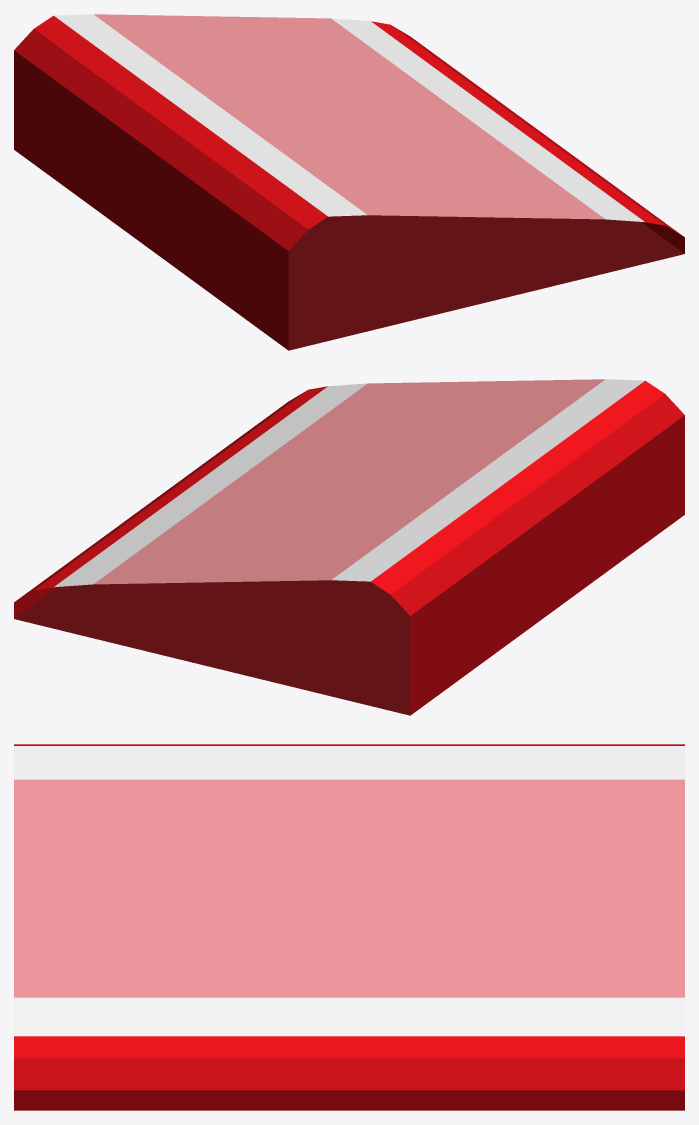
The model's file is Bank1.fbx.
The picture shows the model from 3 angles, top to bottom: view 1: azimuth 30°, elevation 25°; view 2: azimuth 150°, elevation 25°; view 3: azimuth 270°, elevation 25°; orthographic projection. The views are drawn at different scales.
Parts seen in each view (by area): view 1: BankedStraight.001; view 2: BankedStraight.001; view 3: BankedStraight.001.
Part boxes in pixels (x1,y1,x2,y2): BankedStraight.001: (14,14,684,350); BankedStraight.001: (14,379,684,715); BankedStraight.001: (14,744,684,1110).
Size of the model in its own units: 10 by 3 by 12.
